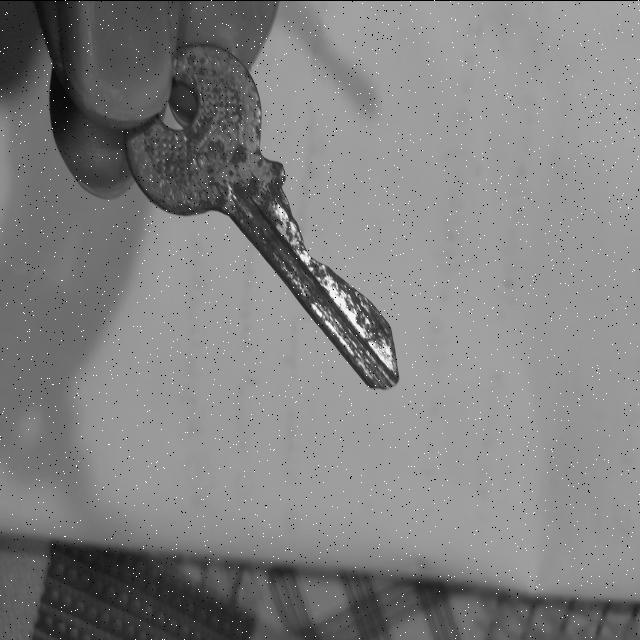key: (125, 42, 399, 388)
